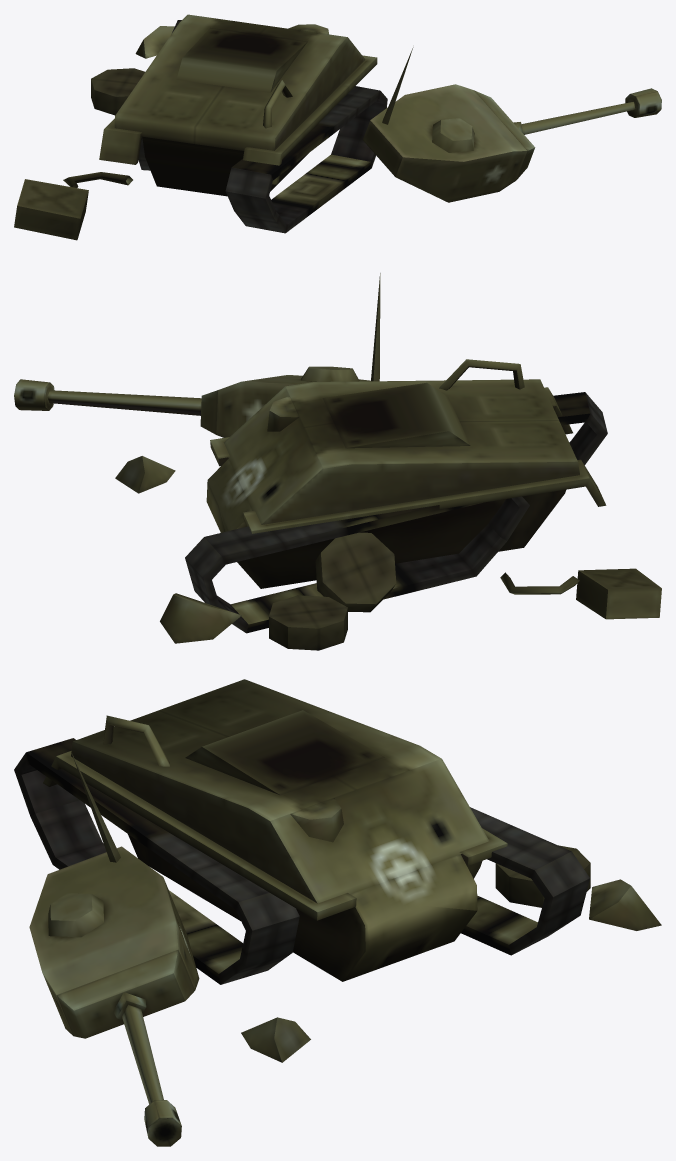
Rendered from B_tank_01.FBX.
3 renders of one model, top to bottom at view 1: azimuth 30°, elevation 25°; view 2: azimuth 150°, elevation 25°; view 3: azimuth 270°, elevation 25°, orthographic. The views are drawn at different scales.
Parts seen in each view (by area): view 1: B_tank_01; view 2: B_tank_01; view 3: B_tank_01.
Boxes of the visible parts, <box> form: B_tank_01: <box>14,14,661,240</box>; B_tank_01: <box>14,273,661,650</box>; B_tank_01: <box>14,679,661,1146</box>.
Bounding box in the file's own units: 851 × 594 × 234.
Materials: 1 (1 with a texture image).
